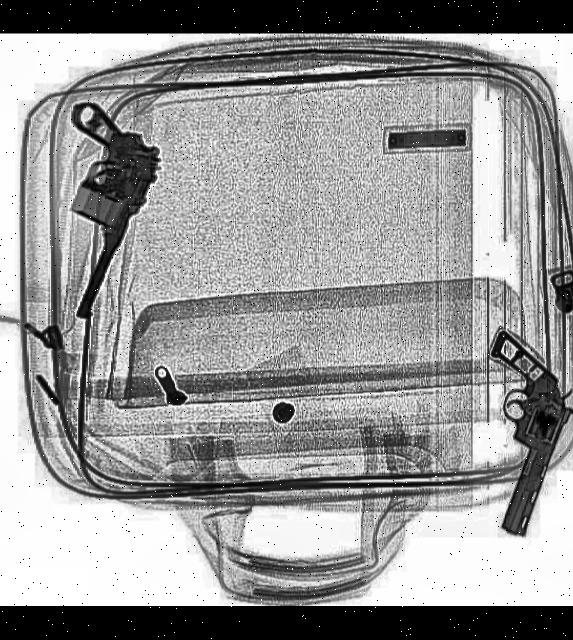Gun: (0, 94, 172, 323), (433, 330, 573, 539)
